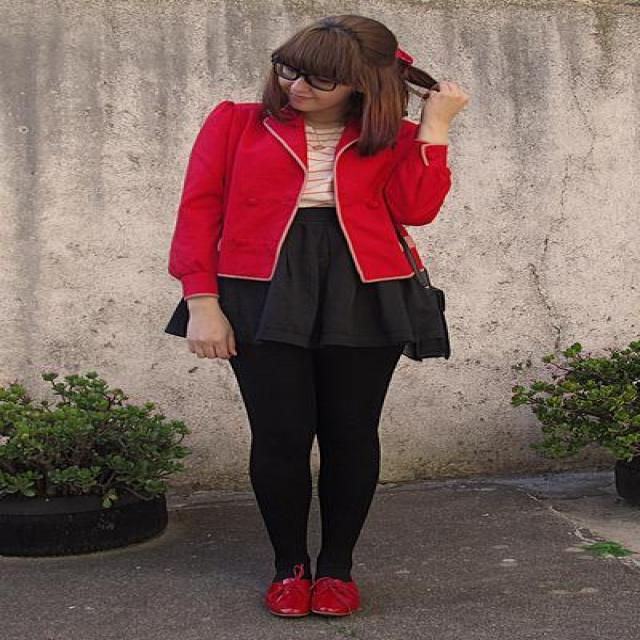jacket: (168, 102, 450, 294)
shirt: (288, 125, 342, 216)
shoe: (266, 576, 356, 613)
skirt: (164, 203, 450, 370)
